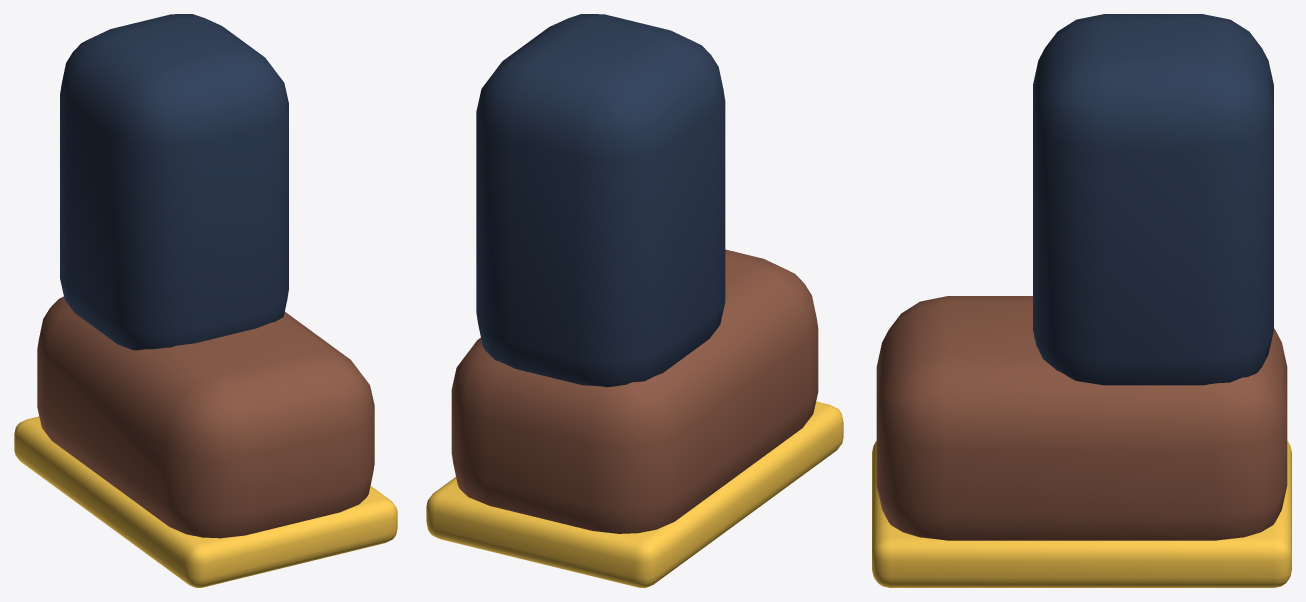
File: fox_leg_r.glb
3 renders of one model, left to right at view 1: azimuth 30°, elevation 25°; view 2: azimuth 150°, elevation 25°; view 3: azimuth 270°, elevation 25°, orthographic. The views are drawn at different scales.
Parts seen in each view (by area): view 1: fox leg_r; view 2: fox leg_r; view 3: fox leg_r.
Part boxes in pixels (bbox=[...]): fox leg_r: bbox=[14, 14, 397, 587]; fox leg_r: bbox=[426, 14, 843, 587]; fox leg_r: bbox=[872, 14, 1291, 587].
Size of the model in its own units: 0.31 by 0.615 by 0.47.
